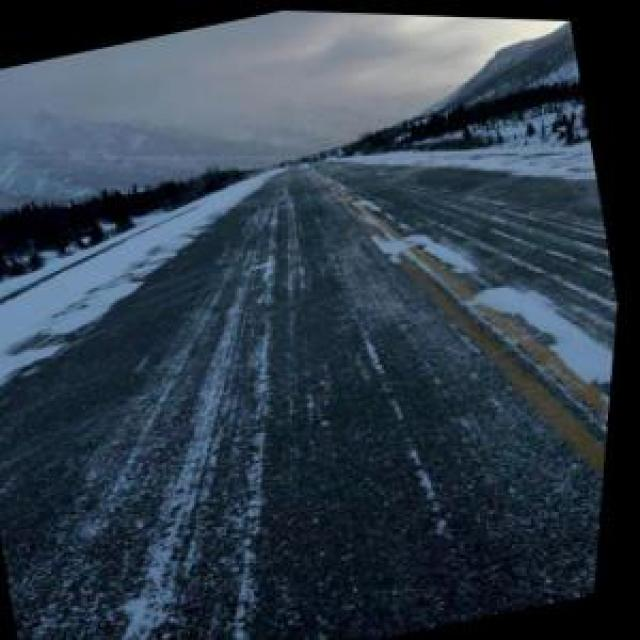ice-road: (0, 156, 621, 640)
